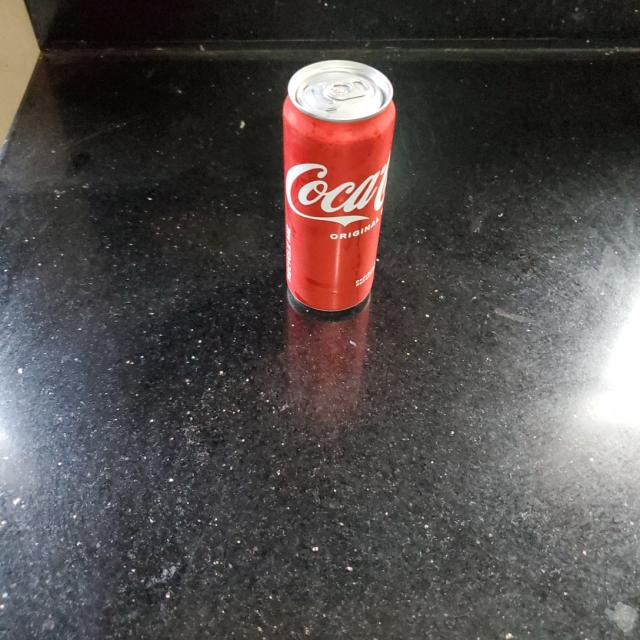coke: (280, 63, 394, 312)
